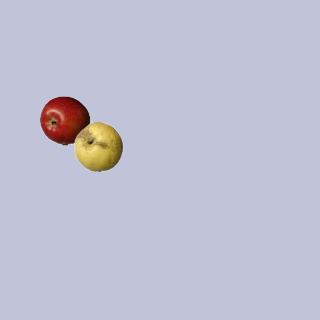Apple Braeburn: (39, 95, 89, 145)
Apple Golden 1: (73, 121, 123, 171)
